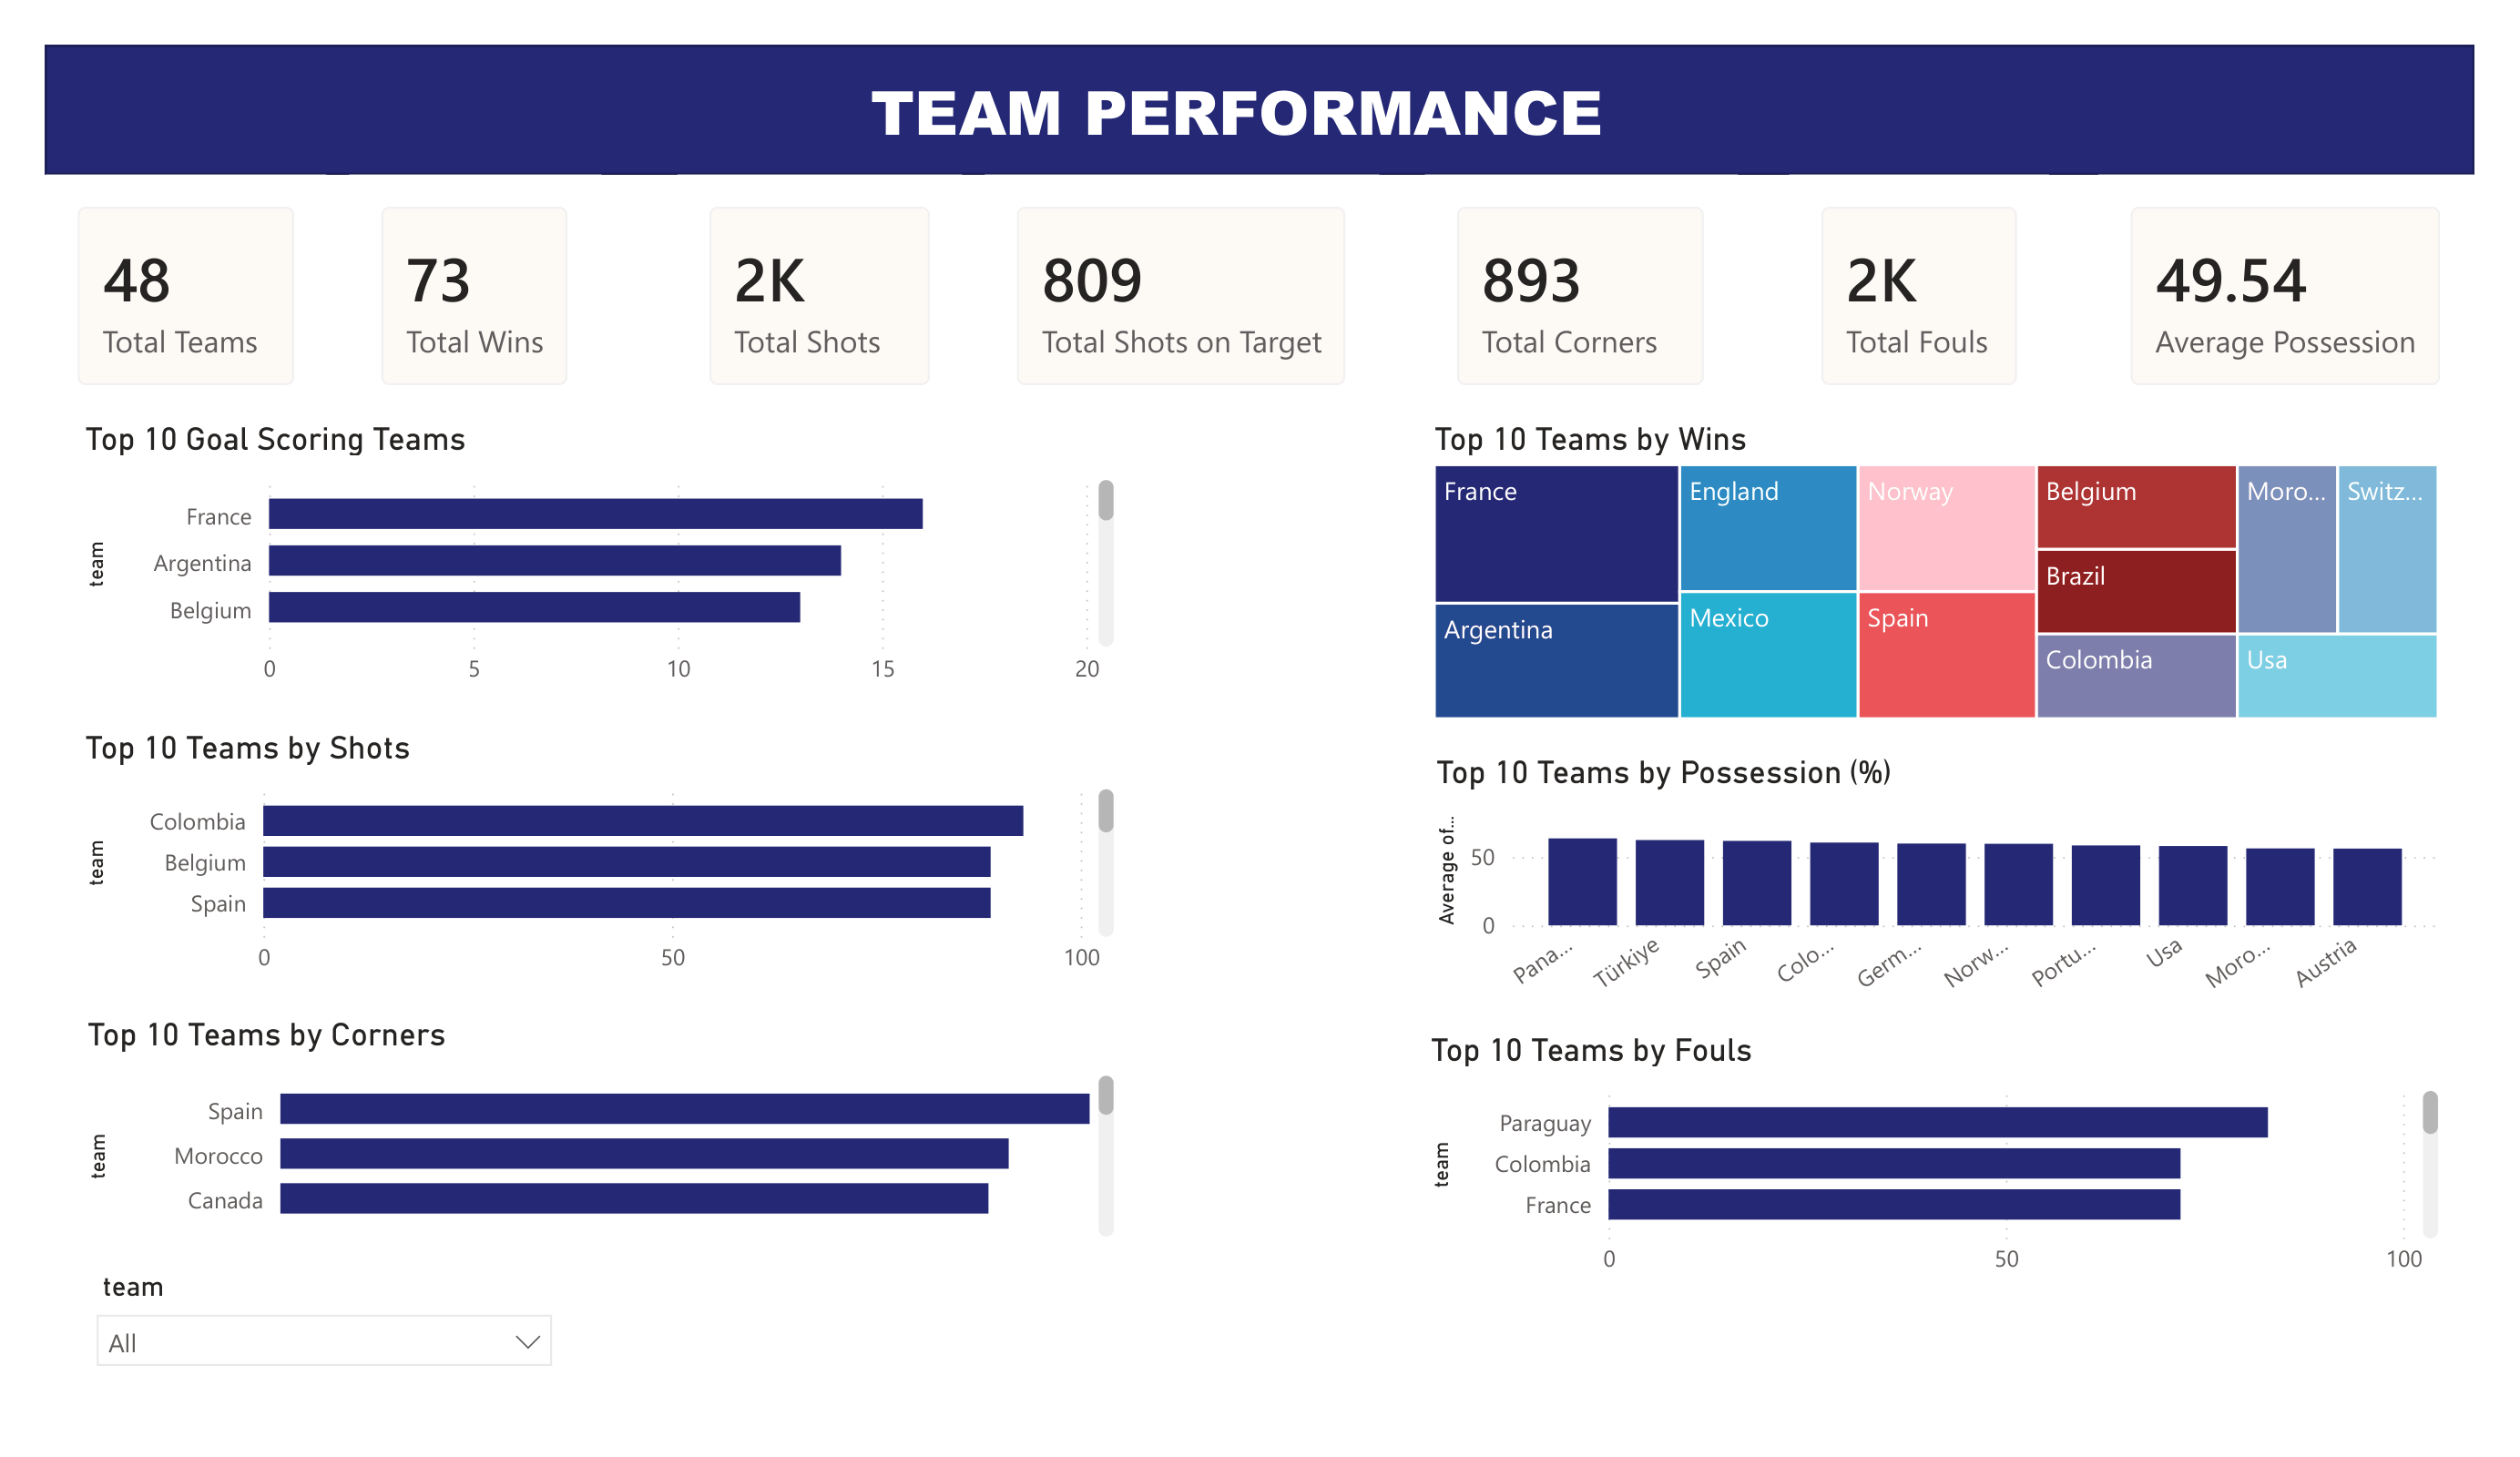

The dashboard page shown, as its layout file describes it:
{"tool":"powerbi","page":{"name":"Performance of Teams","canvas":[1280,720],"ordinal":1},"visuals":[{"type":"shape","box":[0,0,1279.7,67.8],"z":0},{"type":"textbox","box":[429.9,7.2,419.8,60.6],"z":1000},{"type":"cardVisual","fields":{"Data":["team_stats.Total Teams"]},"box":[0,68.3,148.2,128.3],"z":2000},{"type":"cardVisual","fields":{"Data":["team_stats.Total Wins"]},"box":[160.1,67.8,132.7,128.4],"z":3000},{"type":"cardVisual","fields":{"Data":["team_stats.Average Possession"]},"box":[1082.1,67.8,197.7,128.4],"z":4000},{"type":"cardVisual","fields":{"Data":["team_stats.Total Shots"]},"box":[333.3,67.8,150,128.4],"z":5000},{"type":"cardVisual","fields":{"Data":["team_stats.Total Shots on Target"]},"box":[494.9,67.8,207.8,128.4],"z":6000},{"type":"cardVisual","fields":{"Data":["team_stats.Total Corners"]},"box":[727.2,67.8,164.5,128.4],"z":7000},{"type":"cardVisual","fields":{"Data":["team_stats.Total Fouls"]},"box":[919,67.8,137.1,128.4],"z":8000},{"type":"clusteredBarChart","title":"Top 10 Goal Scoring Teams","fields":{"Category":["team_stats.team"],"Y":["Sum(team_stats.goals)"]},"box":[15.6,196.6,552.5,149.8],"z":9000},{"type":"treemap","title":"Top 10 Teams by Wins","fields":{"Group":["team_stats.team"],"Values":["Sum(team_stats.wins)"]},"box":[727.5,196.6,538.1,163],"z":10000},{"type":"barChart","title":"Top 10 Teams by Shots","fields":{"Category":["team_stats.team"],"Y":["Sum(team_stats.shots)"]},"box":[15.6,359.6,552.5,139],"z":11000},{"type":"clusteredColumnChart","title":"Top 10 Teams by Possession (%)","fields":{"Category":["team_stats.team"],"Y":["Avg(team_stats.possession)"]},"box":[727.6,373.2,538.3,137.7],"z":12000},{"type":"barChart","title":"Top 10 Teams by Corners","fields":{"Category":["team_stats.team"],"Y":["Sum(team_stats.corners)"]},"box":[16.8,510.6,551.3,122.2],"z":13000},{"type":"slicer","fields":{"Values":["team_stats.team"]},"box":[16.8,641.2,260.1,70.7],"z":13001},{"type":"barChart","title":"Top 10 Teams by Fouls","fields":{"Category":["team_stats.team"],"Y":["Sum(team_stats.fouls)"]},"box":[725.1,519,540.5,139],"z":13002}]}

Visuals, with their boxes on the page's 1280x720 design canvas (x1, y1, x2, y2). These are canvas units, not pixel positions in the 2520x1457 screenshot, which may show the page scaled, cropped or inside an application window:
shape: Rect(0, 0, 1280, 68)
textbox: Rect(430, 7, 850, 68)
cardVisual - team_stats.Total Teams: Rect(0, 68, 148, 197)
cardVisual - team_stats.Total Wins: Rect(160, 68, 293, 196)
cardVisual - team_stats.Average Possession: Rect(1082, 68, 1280, 196)
cardVisual - team_stats.Total Shots: Rect(333, 68, 483, 196)
cardVisual - team_stats.Total Shots on Target: Rect(495, 68, 703, 196)
cardVisual - team_stats.Total Corners: Rect(727, 68, 892, 196)
cardVisual - team_stats.Total Fouls: Rect(919, 68, 1056, 196)
"Top 10 Goal Scoring Teams" clusteredBarChart: Rect(16, 197, 568, 346)
"Top 10 Teams by Wins" treemap: Rect(728, 197, 1266, 360)
"Top 10 Teams by Shots" barChart: Rect(16, 360, 568, 499)
"Top 10 Teams by Possession (%)" clusteredColumnChart: Rect(728, 373, 1266, 511)
"Top 10 Teams by Corners" barChart: Rect(17, 511, 568, 633)
slicer - team_stats.team: Rect(17, 641, 277, 712)
"Top 10 Teams by Fouls" barChart: Rect(725, 519, 1266, 658)
